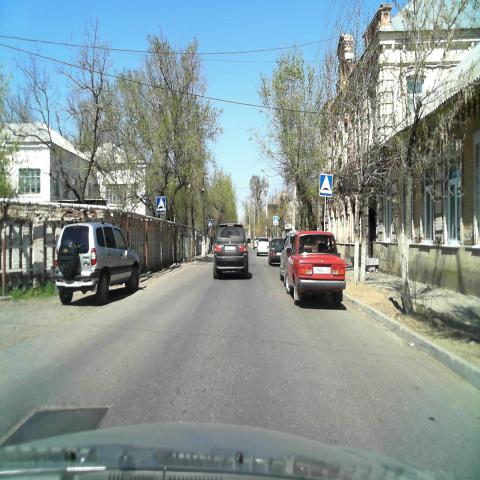5_20: (318, 174, 333, 198)
